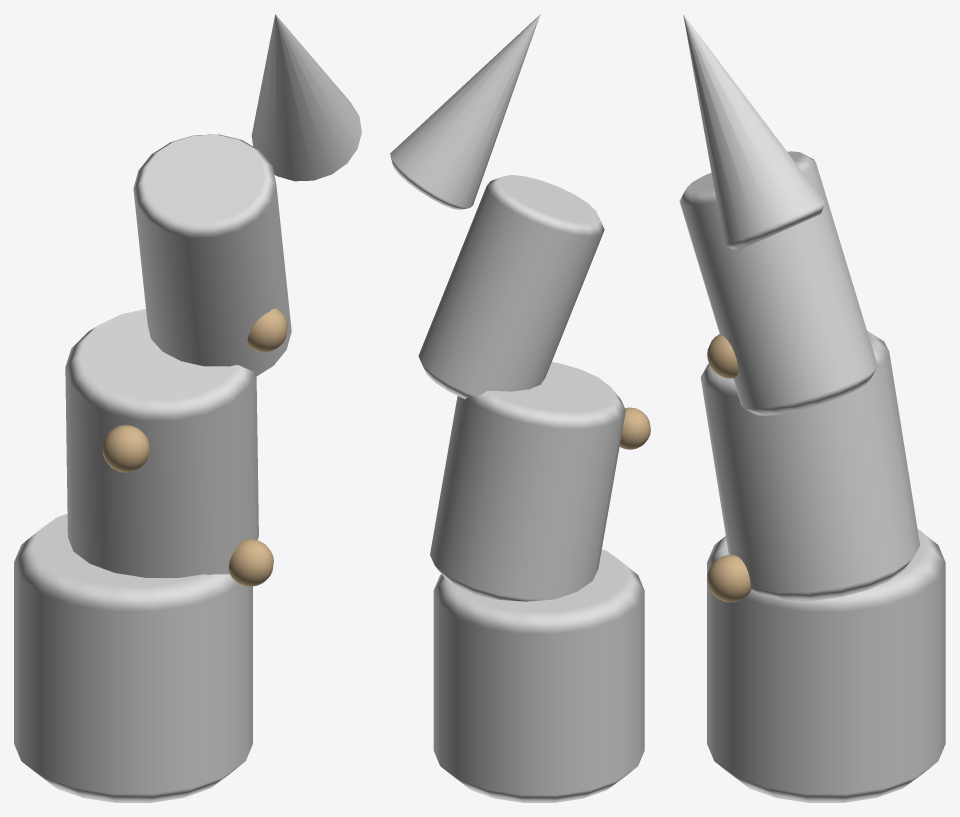
File: tentacle.4d3c6226.glb
The picture shows the model from 3 angles, left to right: view 1: azimuth 30°, elevation 25°; view 2: azimuth 150°, elevation 25°; view 3: azimuth 270°, elevation 25°; orthographic projection. The views are drawn at different scales.
Visible parts, largest first — view 1: accent, body; view 2: accent, body; view 3: accent, body.
Part boxes in pixels (x1=…): accent: x1=14, y1=14, x2=361, y2=802; body: x1=102, y1=308, x2=287, y2=586; accent: x1=390, y1=14, x2=644, y2=802; body: x1=619, y1=407, x2=650, y2=449; accent: x1=679, y1=14, x2=945, y2=802; body: x1=707, y1=334, x2=751, y2=602.
Bounding box in the file's own units: 0.4253 × 1.08 × 0.3348.
